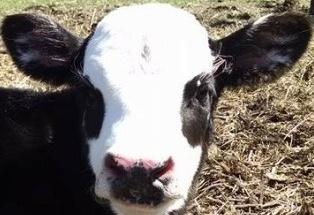muzzles: (92, 150, 188, 208)
